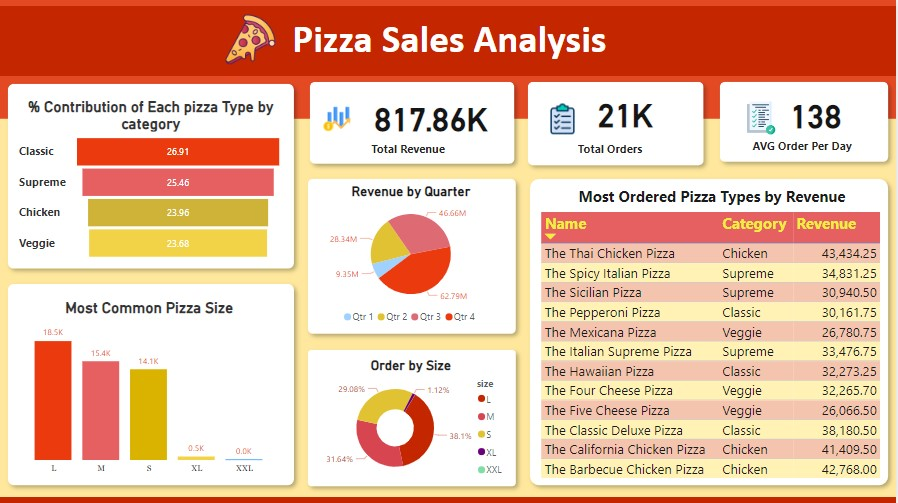

The page's visual inventory and layout, read from the dashboard file:
{"tool":"powerbi","page":{"name":"Page 1","canvas":[1280,720],"ordinal":0},"visuals":[{"type":"shape","box":[0,0,1280,169.7],"z":0},{"type":"shape","box":[743.1,105.6,273.3,141.7],"z":0,"group":"g2"},{"type":"shape","box":[1016.7,105.6,262.8,136.6],"z":0,"group":"g1"},{"type":"shape","box":[428.6,488.5,319.5,217.2],"z":0,"group":"g8"},{"type":"group","id":"g1","title":"Group 1","box":[1016.7,105.6,263.3,136.7],"z":1000},{"type":"card","fields":{"Values":["Sum(orders placed.count(order_id))"]},"box":[821.5,127.1,142.7,65.9],"z":1000,"group":"g2"},{"type":"card","fields":{"Values":["Sum(average number of pizzas ordered per day.avg_orders)"]},"box":[1114.1,129,102,65],"z":1000,"group":"g1"},{"type":"shape","box":[745.7,244.3,534.3,460],"z":1000,"group":"g4"},{"type":"shape","box":[428.6,244.8,319.5,243.7],"z":1000,"group":"g7"},{"type":"shape","box":[0,394.2,431.2,310],"z":1500,"group":"g6"},{"type":"shape","box":[0,8.6,1280,100],"z":2000},{"type":"textbox","box":[1039.8,193.1,211.8,36.4],"z":2000,"group":"g1"},{"type":"textbox","box":[779.6,196.8,183.1,37.5],"z":2000,"group":"g2"},{"type":"shape","box":[0,108,431,286.2],"z":2500,"group":"g5"},{"type":"group","id":"g2","title":"Group 2","box":[743.1,105.6,273.3,141.7],"z":3000},{"type":"image","box":[1052.1,139.8,68,57.2],"z":3000,"group":"g1"},{"type":"image","box":[768.9,142.1,69.8,54.2],"z":3000,"group":"g2"},{"type":"group","id":"g3","title":"Group 3","box":[431.2,105.6,311.7,140],"z":4000},{"type":"shape","box":[0,710,1280,10],"z":5000},{"type":"textbox","box":[398,16.2,486.9,85.9],"z":6000},{"type":"image","box":[317.3,13.5,80.8,86.5],"z":7000},{"type":"shape","box":[431.2,105.6,314.4,139.5],"z":7000,"group":"g3"},{"type":"pieChart","fields":{"Category":["cumulative revenue generated over time.order_date.Variation.Date Hierarchy.Quarter"],"Y":["Sum(cumulative revenue generated over time.cum_revenue)"]},"box":[442.2,262,290.9,210.6],"z":7000,"group":"g7"},{"type":"card","fields":{"Values":["Sum(total revenue.total_revenue)"]},"box":[516.9,134.8,196.2,63.3],"z":8000,"group":"g3"},{"type":"group","id":"g4","title":"Group 4","box":[745.7,244.3,534.3,461.4],"z":8000},{"type":"tableEx","title":"Most Ordered Pizza Types by Revenue","fields":{"Values":["top 3 most ordered pizza types based on revenue.name","top 3 most ordered pizza types based on revenue.category","Sum(top 3 most ordered pizza types based on revenue.revenue)"]},"box":[767.1,302.9,500,402.9],"z":8000,"group":"g4"},{"type":"group","id":"g5","title":"Group 5","box":[0,108,431,286.2],"z":9000},{"type":"funnel","fields":{"Category":["percentage contribution of each pizza type.category"],"Y":["Sum(percentage contribution of each pizza type.revenue)"]},"box":[17.6,130.1,391.7,246.1],"z":9000,"group":"g5"},{"type":"image","box":[452,146.3,57.7,49.1],"z":9000,"group":"g3"},{"type":"textbox","box":[500.4,197.3,165.9,37.5],"z":10000,"group":"g3"},{"type":"group","id":"g6","title":"Group 6","box":[0,394.2,431.2,310],"z":10000},{"type":"clusteredColumnChart","title":"Most Common Pizza Size","fields":{"Y":["Sum(common pizza size.order_count)"],"Category":["common pizza size.size"]},"box":[17.6,420.9,391.8,263.7],"z":10000,"group":"g6"},{"type":"group","id":"g7","title":"Group 7","box":[428.6,244.8,319.5,243.7],"z":11000},{"type":"group","id":"g8","title":"Group 8","box":[428.6,488.5,319.5,217.2],"z":12000},{"type":"textbox","box":[817.1,260,400,42.9],"z":14000,"group":"g4"},{"type":"donutChart","title":"Order by Size","fields":{"Y":["Sum(common pizza size.order_count)"],"Category":["common pizza size.size"]},"box":[443.5,510.3,288.5,180.5],"z":14000,"group":"g8"}]}

Visuals, with their boxes in screenshot pixels (x1, y1, x2, y2), scaled from the page's 1280x720 canvas onto the 898x503 screenshot:
shape: <region>0, 0, 897, 119</region>
shape: <region>521, 74, 713, 173</region>
shape: <region>713, 74, 897, 169</region>
shape: <region>301, 341, 525, 493</region>
"Group 1" group: <region>713, 74, 897, 169</region>
card - Sum(orders placed.count(order_id)): <region>576, 89, 676, 135</region>
card - Sum(average number of pizzas ordered per day.avg_orders): <region>782, 90, 853, 136</region>
shape: <region>523, 171, 897, 492</region>
shape: <region>301, 171, 525, 341</region>
shape: <region>0, 275, 303, 492</region>
shape: <region>0, 6, 897, 76</region>
textbox: <region>729, 135, 878, 160</region>
textbox: <region>547, 137, 675, 164</region>
shape: <region>0, 75, 302, 275</region>
"Group 2" group: <region>521, 74, 713, 173</region>
image: <region>738, 98, 786, 138</region>
image: <region>539, 99, 588, 137</region>
"Group 3" group: <region>303, 74, 521, 172</region>
shape: <region>0, 496, 897, 502</region>
textbox: <region>279, 11, 621, 71</region>
image: <region>223, 9, 279, 70</region>
shape: <region>303, 74, 523, 171</region>
pieChart - cumulative revenue generated over time.order_date.Variation.Date Hierarchy.Quarter x Sum(cumulative revenue generated over time.cum_revenue): <region>310, 183, 514, 330</region>
card - Sum(total revenue.total_revenue): <region>363, 94, 500, 138</region>
"Group 4" group: <region>523, 171, 897, 493</region>
"Most Ordered Pizza Types by Revenue" tableEx: <region>538, 212, 889, 493</region>
"Group 5" group: <region>0, 75, 302, 275</region>
funnel - percentage contribution of each pizza type.category x Sum(percentage contribution of each pizza type.revenue): <region>12, 91, 287, 263</region>
image: <region>317, 102, 358, 137</region>
textbox: <region>351, 138, 467, 164</region>
"Group 6" group: <region>0, 275, 303, 492</region>
"Most Common Pizza Size" clusteredColumnChart: <region>12, 294, 287, 478</region>
"Group 7" group: <region>301, 171, 525, 341</region>
"Group 8" group: <region>301, 341, 525, 493</region>
textbox: <region>573, 182, 854, 212</region>
"Order by Size" donutChart: <region>311, 357, 514, 483</region>
